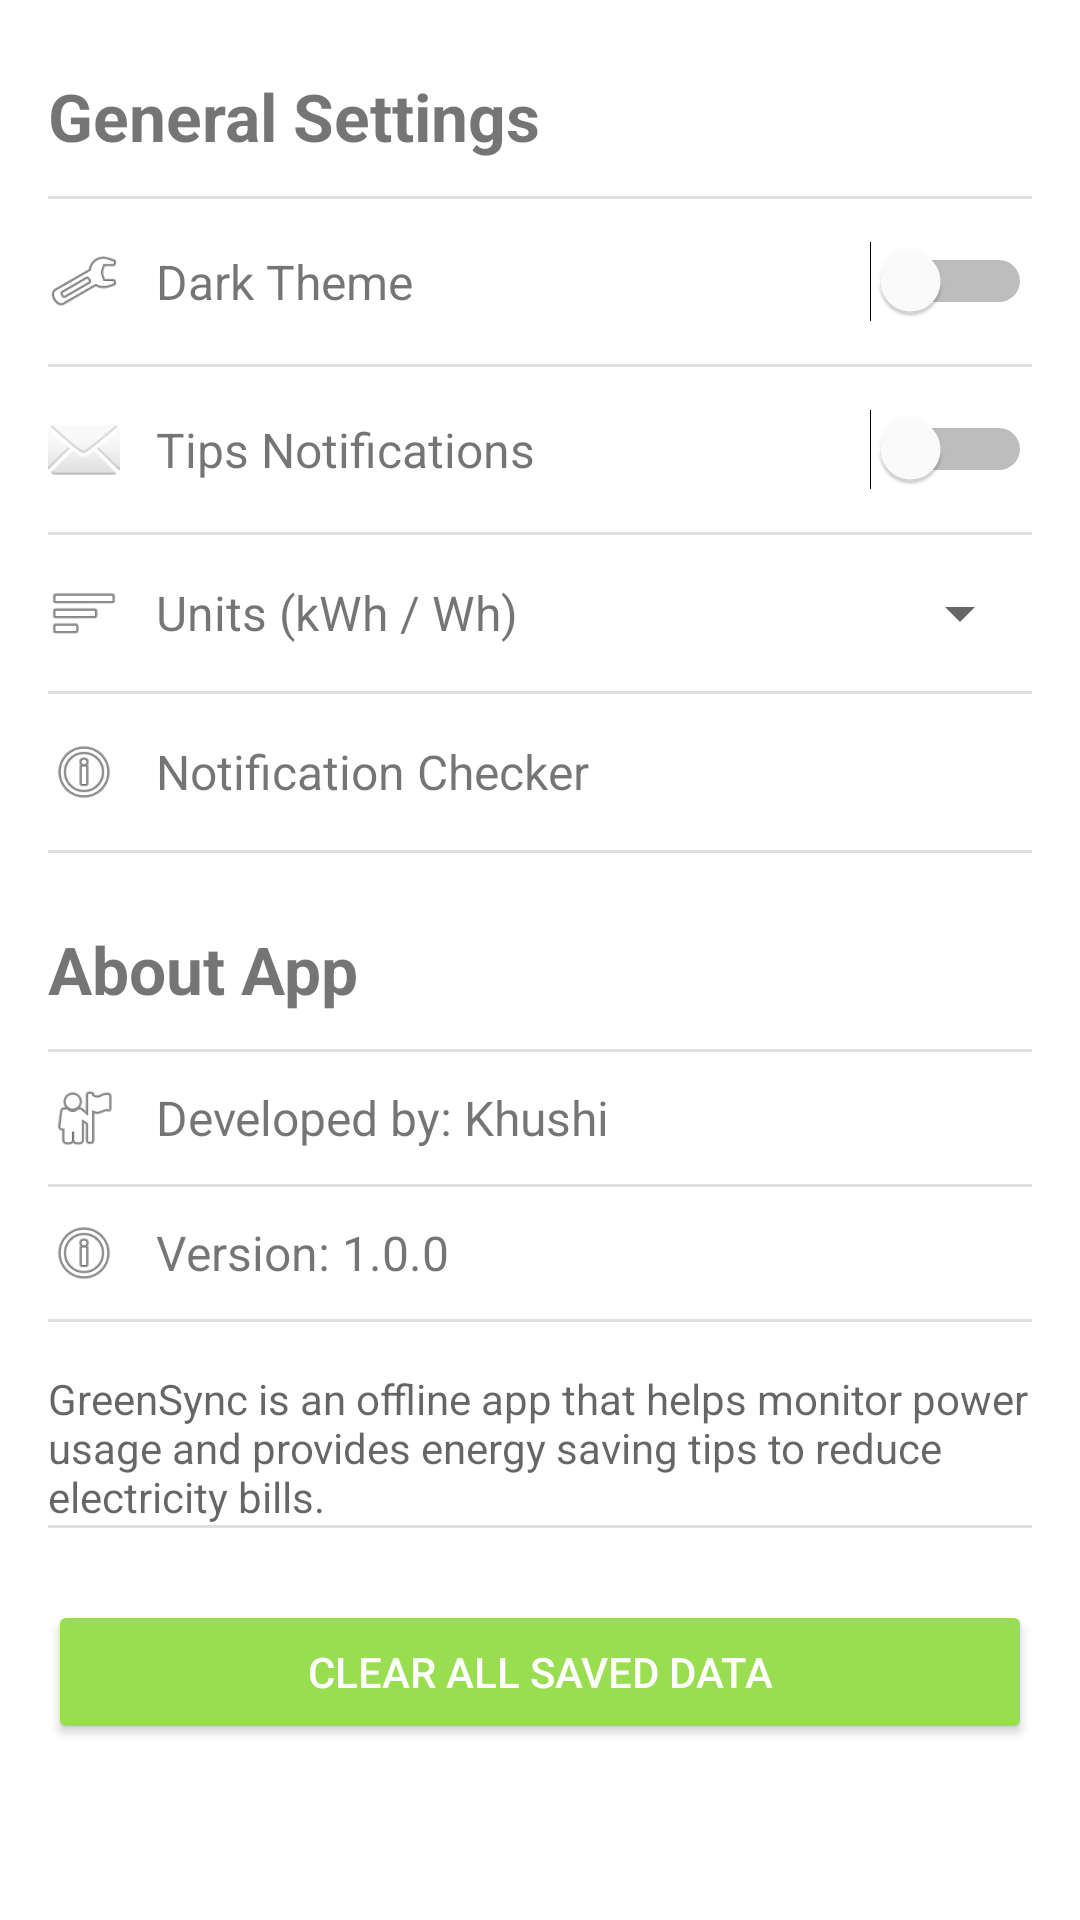

Icons on this 1080 x 1920 Android screen, each with its box as box=[x1, y1, x2, y2]:
email: box=[48, 426, 120, 475]
info details: box=[58, 746, 110, 798], box=[58, 1227, 110, 1279]
manage: box=[51, 256, 116, 306]
myplaces: box=[58, 1091, 112, 1145]
sort by size: box=[53, 593, 115, 634]
